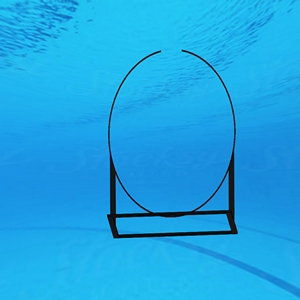circle: (106, 46, 241, 247)
